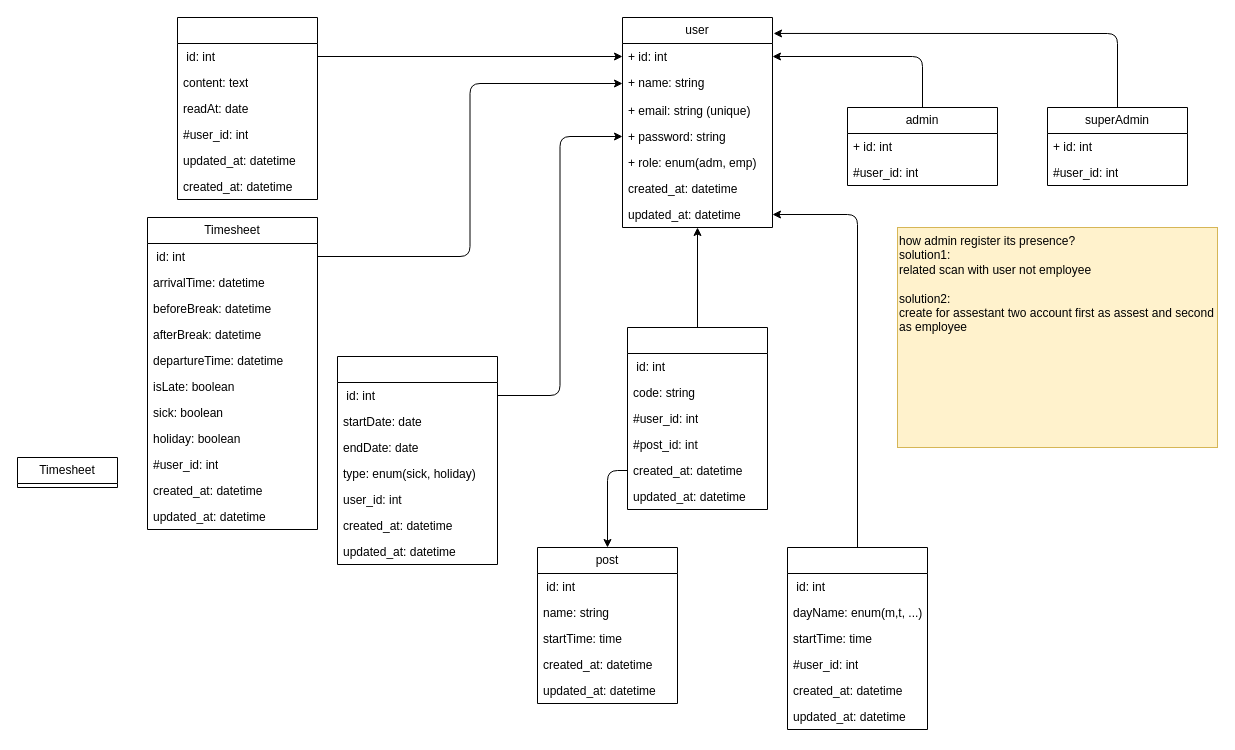
Some shapes in this 1235 by 750 pixel diagram are drawn without their labels. Here are the shapes that lost their labels. From the top down, the box of each, then its label:
(176, 16, 318, 200): toast(notifiction)
(626, 326, 768, 510): employee
(336, 356, 498, 564): AuthorizedLeave
(786, 546, 928, 730): exceptionalTime
